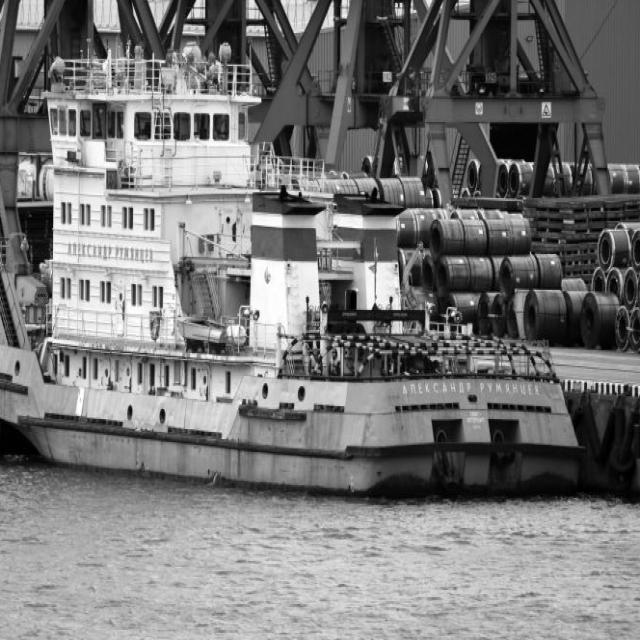tugboat: (1, 27, 592, 518)
